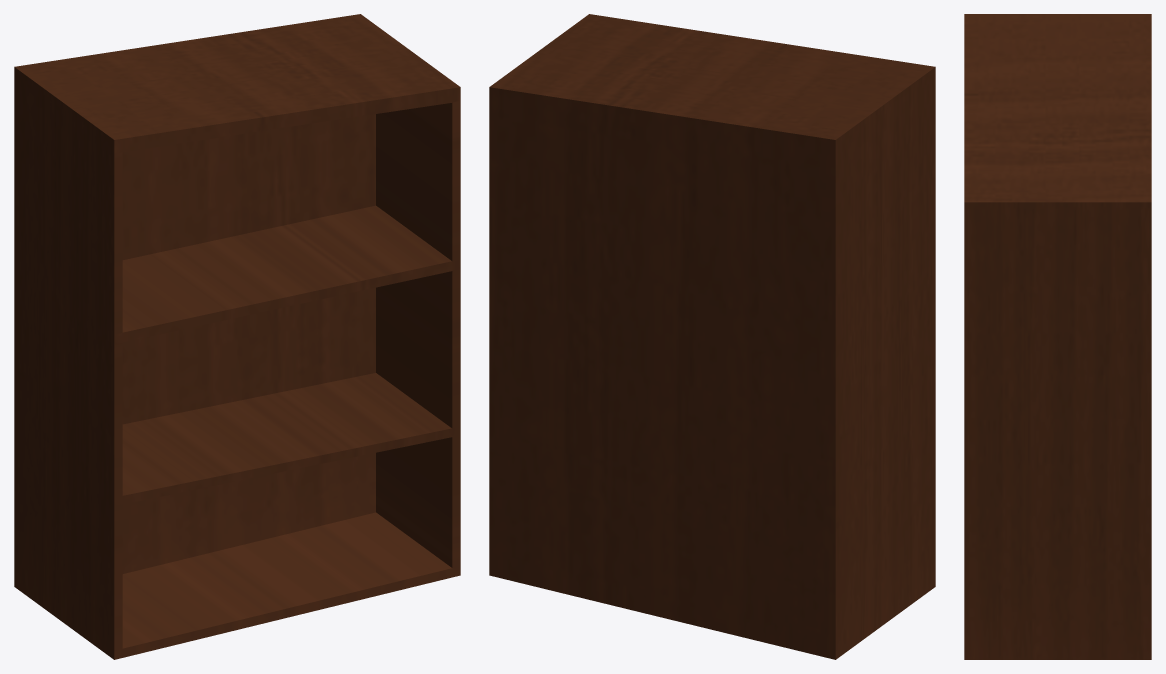
File: bookshelftextured.fbx
3 views of the same model, side by side, from view 1: azimuth 30°, elevation 25°; view 2: azimuth 150°, elevation 25°; view 3: azimuth 270°, elevation 25° (orthographic). The views are drawn at different scales.
Visible parts, largest first — view 1: pCube1; view 2: pCube1; view 3: pCube1.
Boxes of the visible parts, bbox=[...] form: pCube1: bbox=[14, 14, 460, 659]; pCube1: bbox=[489, 14, 935, 659]; pCube1: bbox=[964, 14, 1151, 659].
Bounding box in the file's own units: 3 × 4.3 × 1.5.
